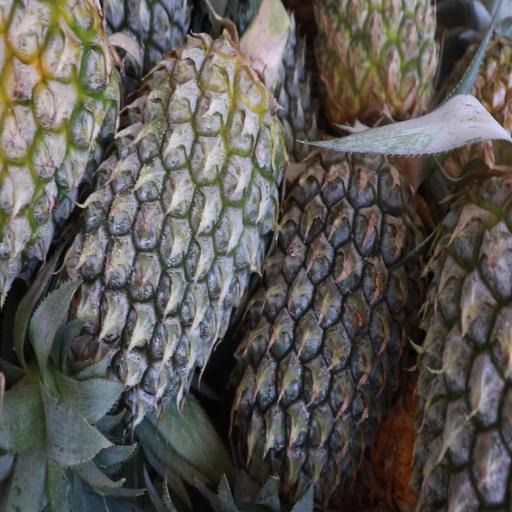------------------------------: (0, 0, 122, 283), (320, 0, 440, 130)
